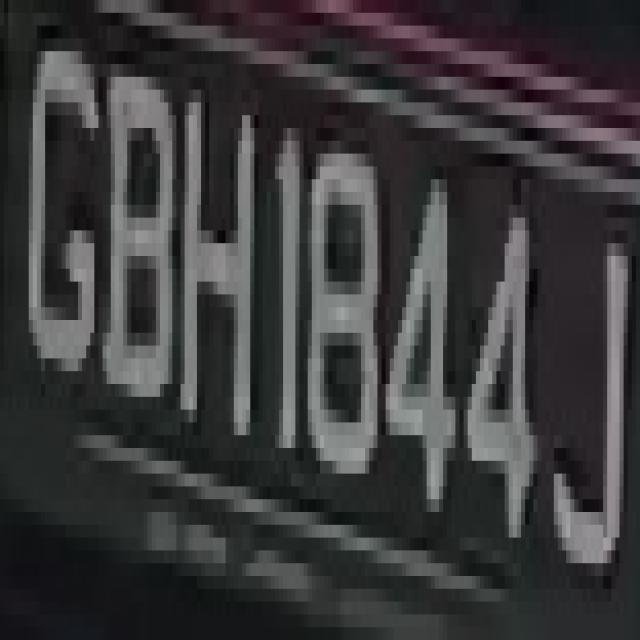1: (262, 102, 304, 500)
4: (464, 166, 542, 589), (386, 128, 464, 512)
8: (308, 76, 386, 538)
B: (102, 13, 180, 435)
G: (21, 26, 98, 410)
H: (176, 64, 258, 486)
J: (541, 154, 632, 602)
